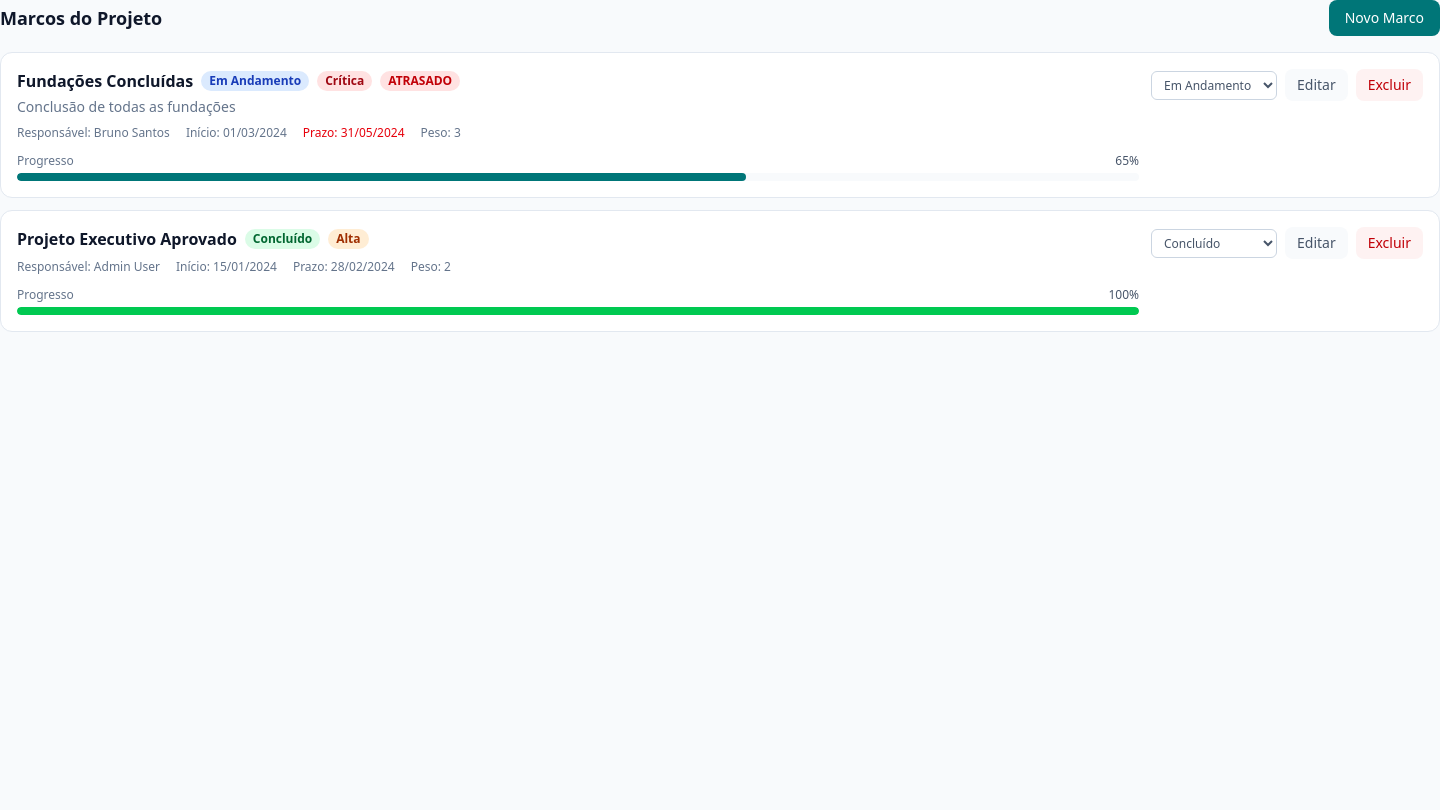
ProjectMilestonesTab › opens create modal when Nova Marco is clicked
Click the button "Novo Marco" at x=1384, y=18, box x1=1329 y1=0 x2=1439 y2=36
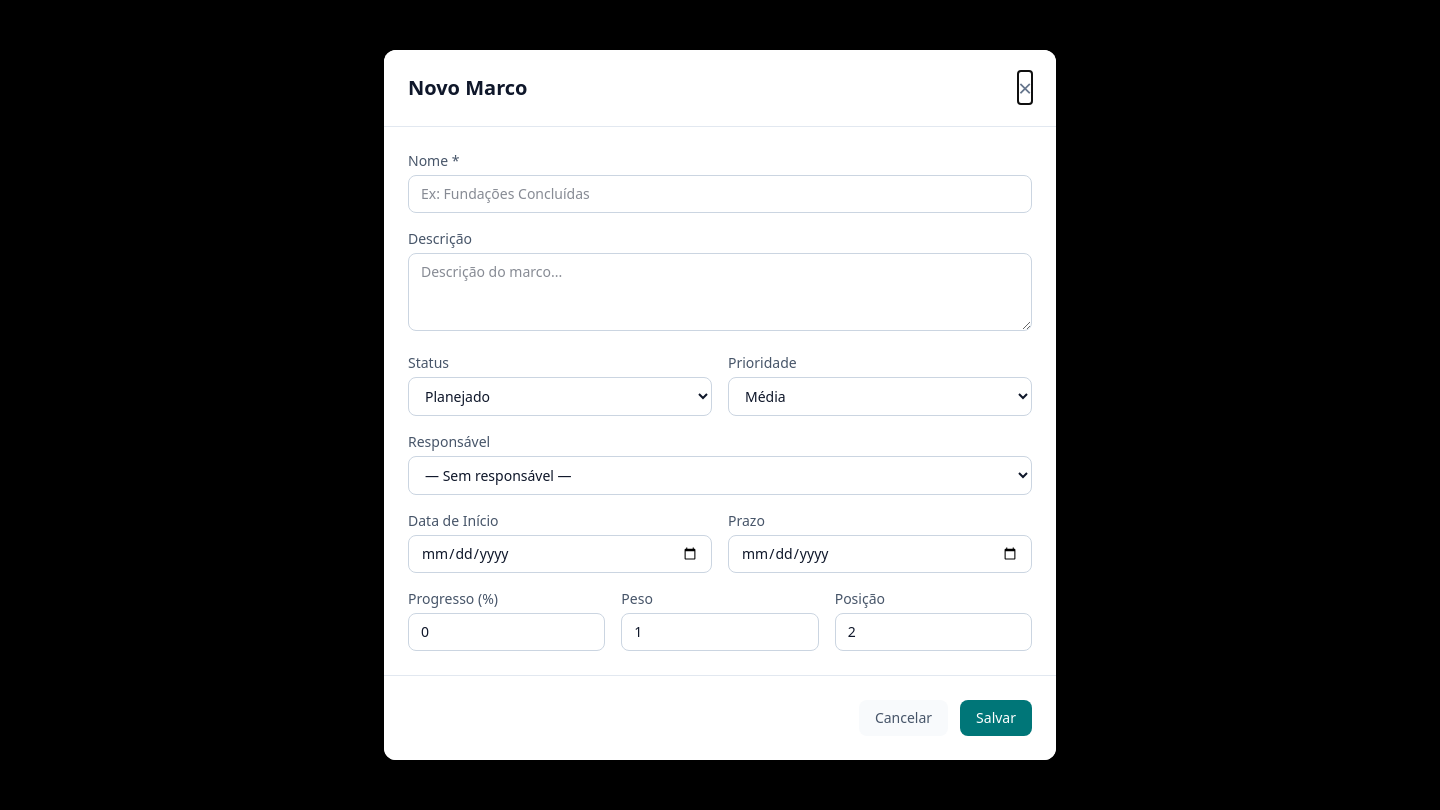
Expected: the heading "Novo Marco" is shown, x1=408 y1=74 x2=528 y2=102
